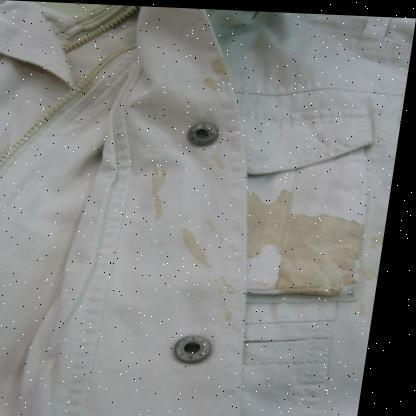coffee: (289, 218, 347, 288), (250, 196, 285, 242), (152, 174, 165, 217), (215, 62, 228, 79), (186, 233, 194, 251)
